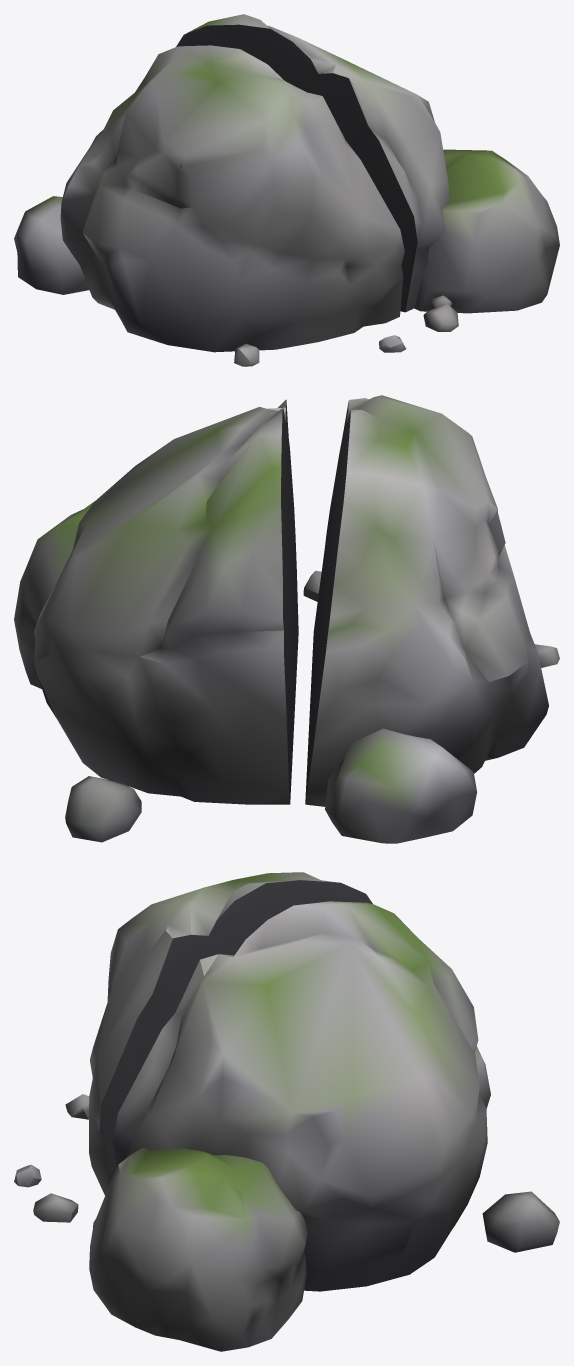
Rendered from rock-cracked-v1.glb.
3 views of the same model, one above another, from view 1: azimuth 30°, elevation 25°; view 2: azimuth 150°, elevation 25°; view 3: azimuth 270°, elevation 25° (orthographic). The views are drawn at different scales.
Parts seen in each view (by area): view 1: 0_rock.001; view 2: 0_rock.001; view 3: 0_rock.001.
Part boxes in pixels (bbox=[...]): 0_rock.001: bbox=[14, 14, 559, 366]; 0_rock.001: bbox=[14, 395, 559, 843]; 0_rock.001: bbox=[14, 872, 559, 1351].
Bounding box in the file's own units: 2.54 × 1.51 × 2.36.
